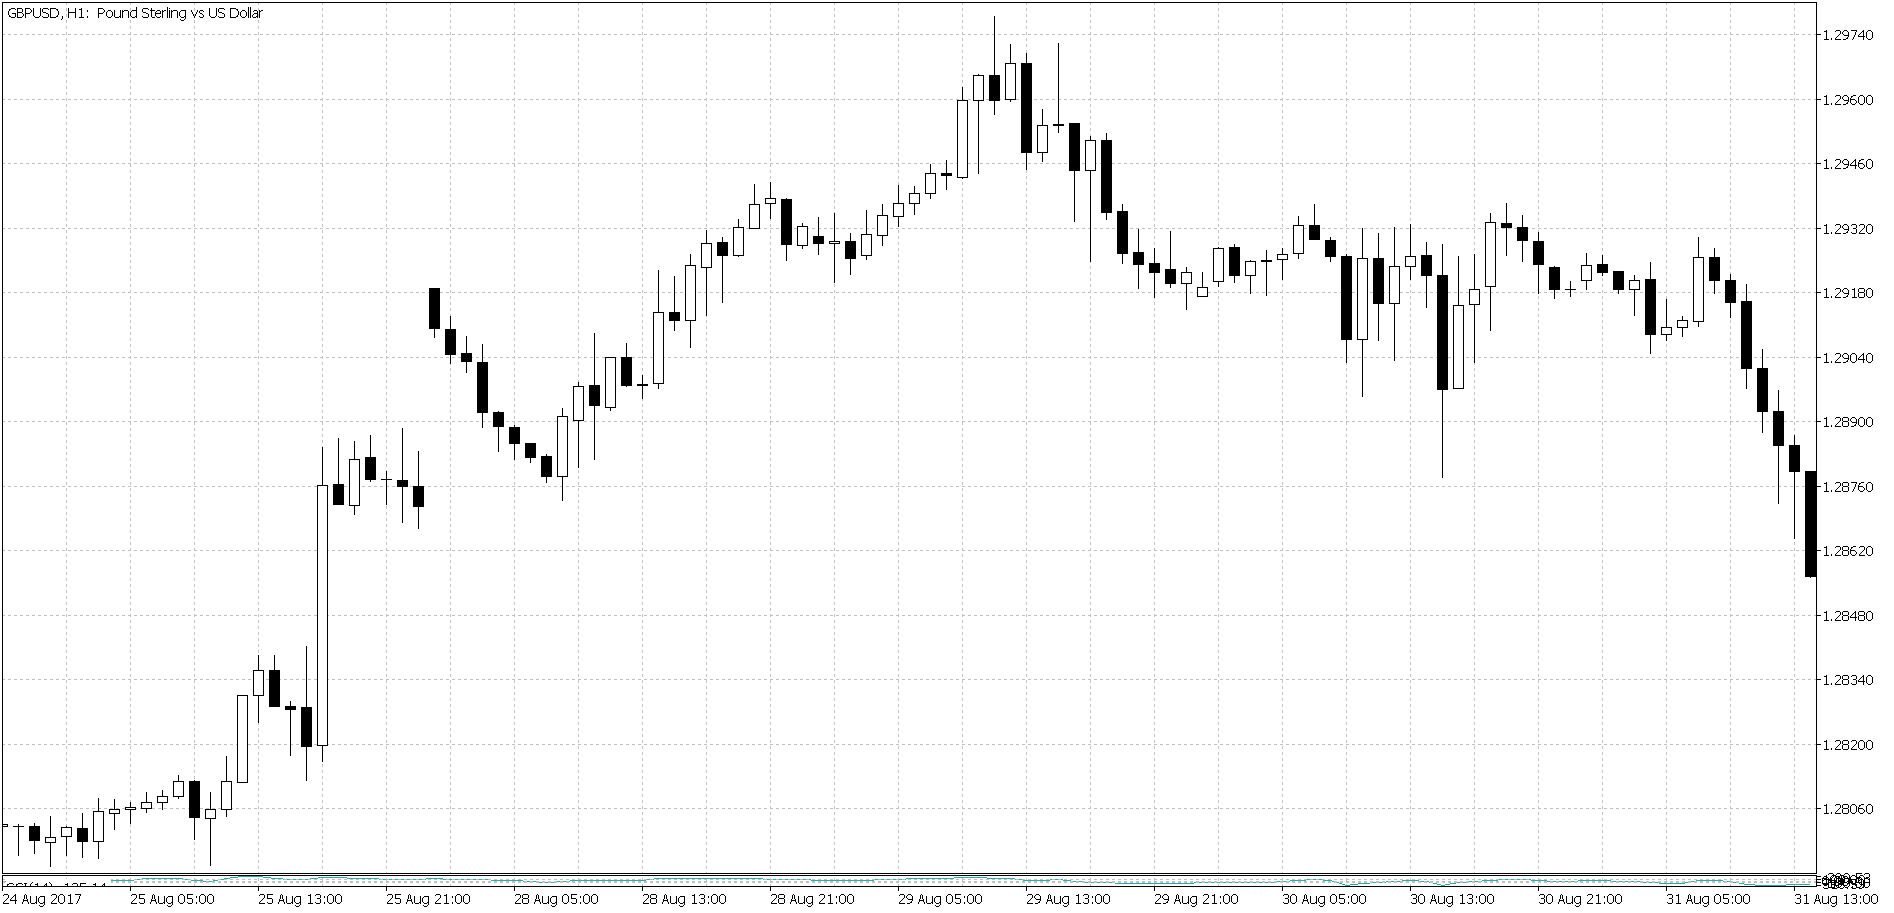3whitesoldiers: (859, 192, 908, 269)
bullishEngulfing: (539, 405, 571, 495)
eveningStar: (748, 175, 795, 263)
hammer: (1179, 264, 1195, 310)
